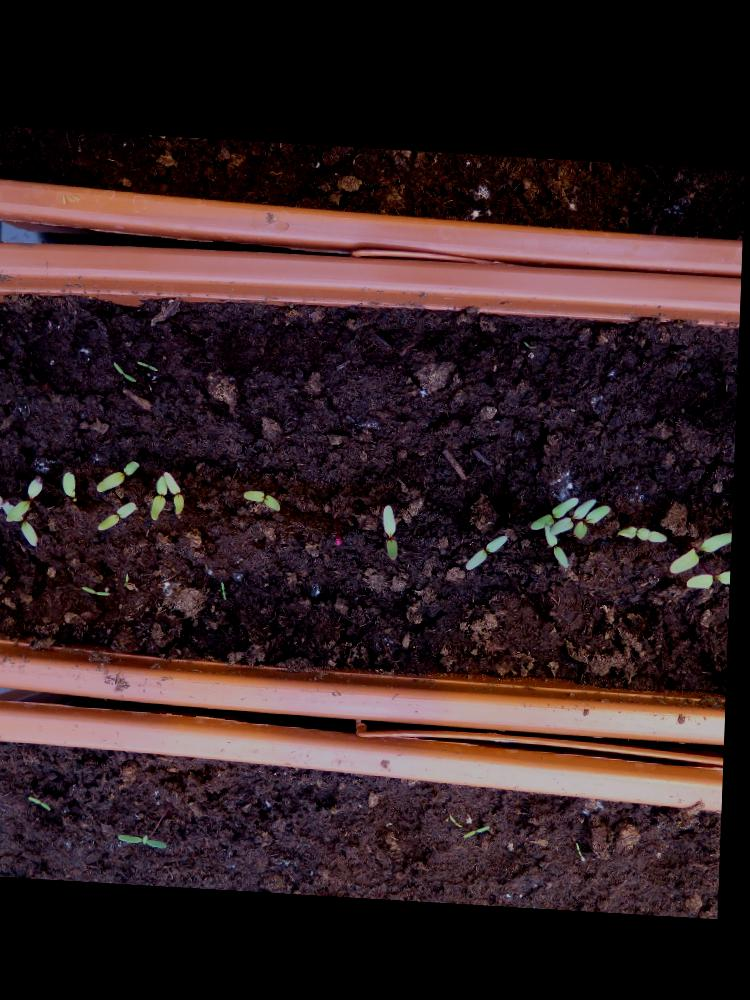crop: (465, 526, 513, 567), (381, 499, 404, 556), (243, 487, 286, 510)
weed: (119, 832, 176, 847), (113, 361, 140, 381), (31, 796, 58, 811), (82, 586, 116, 595), (135, 360, 163, 370), (221, 578, 234, 599)
